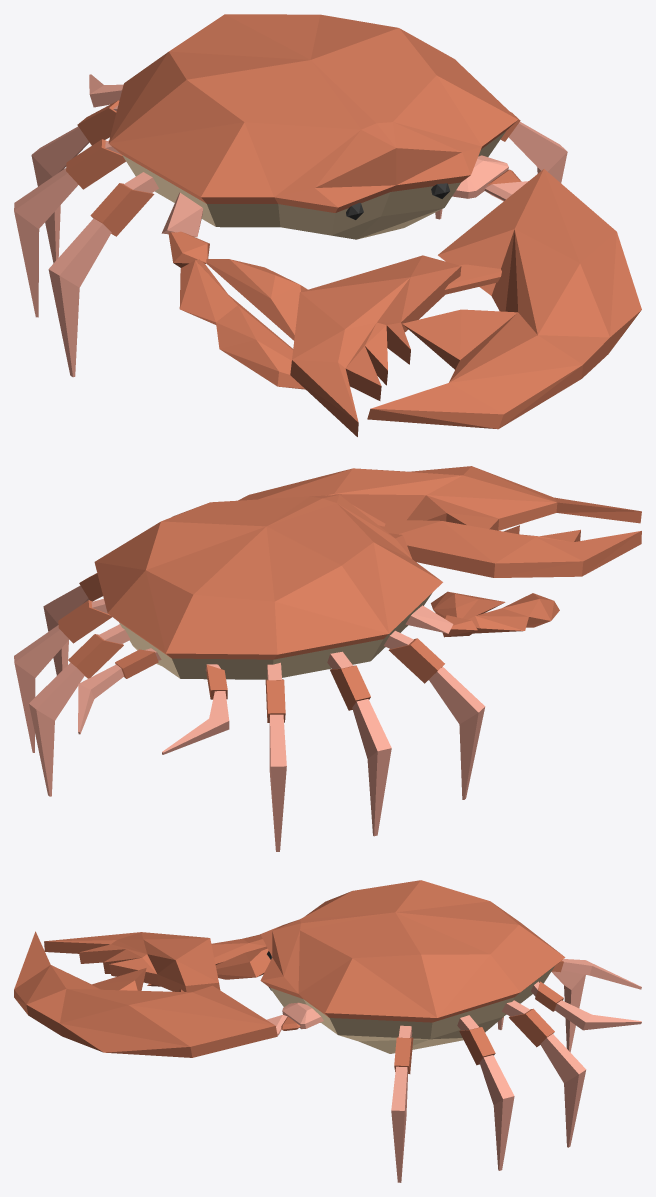
File: Crab.fbx
3 renders of one model, top to bottom at view 1: azimuth 30°, elevation 25°; view 2: azimuth 150°, elevation 25°; view 3: azimuth 270°, elevation 25°, orthographic. The views are drawn at different scales.
Visible parts, largest first — view 1: Crab; view 2: Crab; view 3: Crab.
Part boxes in pixels (x1,y1,x2,y2): Crab: [14, 14, 641, 436]; Crab: [14, 466, 641, 851]; Crab: [14, 880, 641, 1182].
Size of the model in its own units: 39.99 by 19.5 by 59.17.
Materials: 1 (1 with a texture image).
